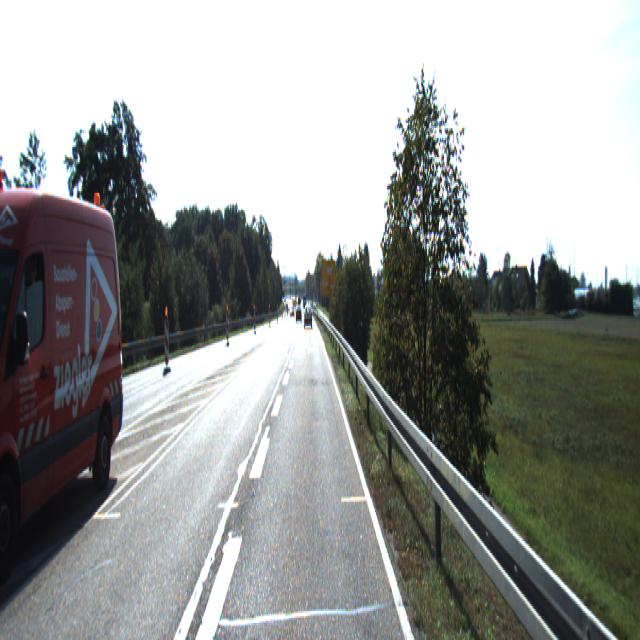Car: (0, 154, 125, 607), (304, 304, 312, 326)
